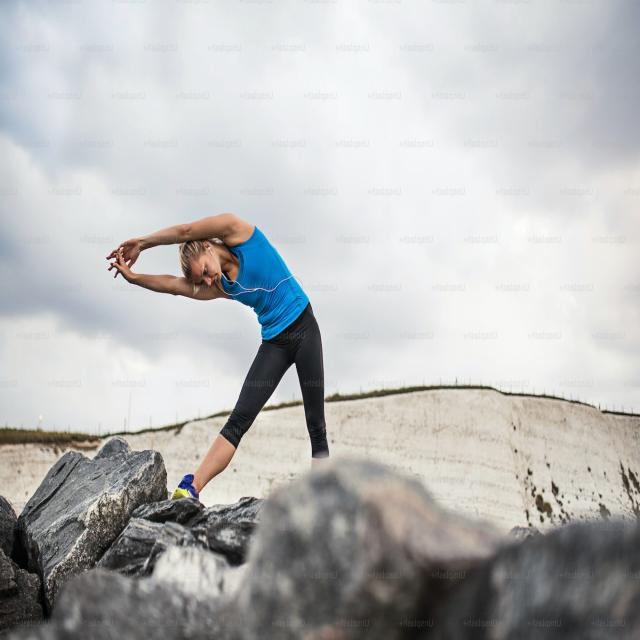adult: (105, 210, 328, 498)
